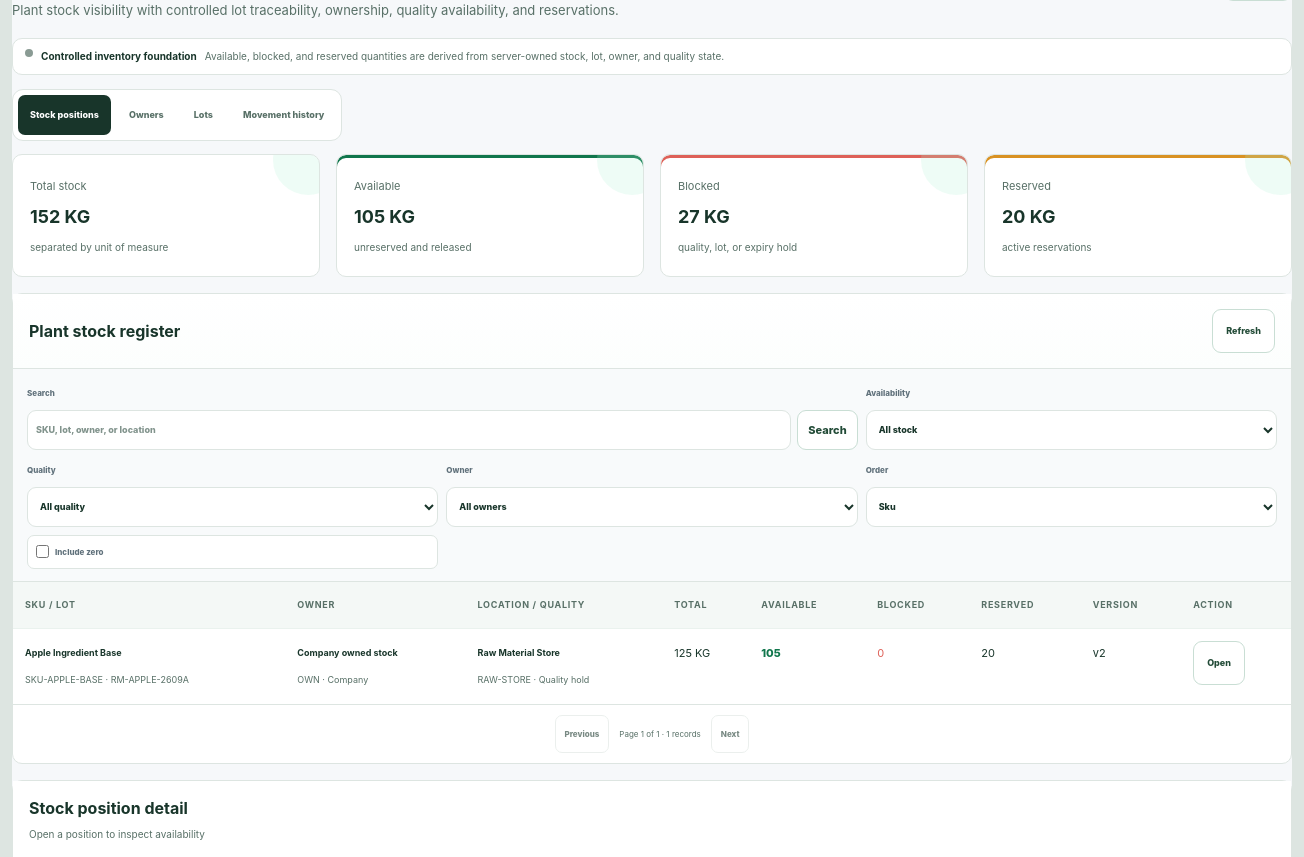
Test: inventory stock workspace › loads derived stock buckets, filters the server list, and opens reservation detail
Expected: the text "Raw Material Store" is shown, [478,647,560,658]
Expected: the text "105 KG" is shown, [354,206,415,227]
Select "BLOCKED" in the dropdown named "Filter stock availability": (1071,430) [866,410,1277,450]
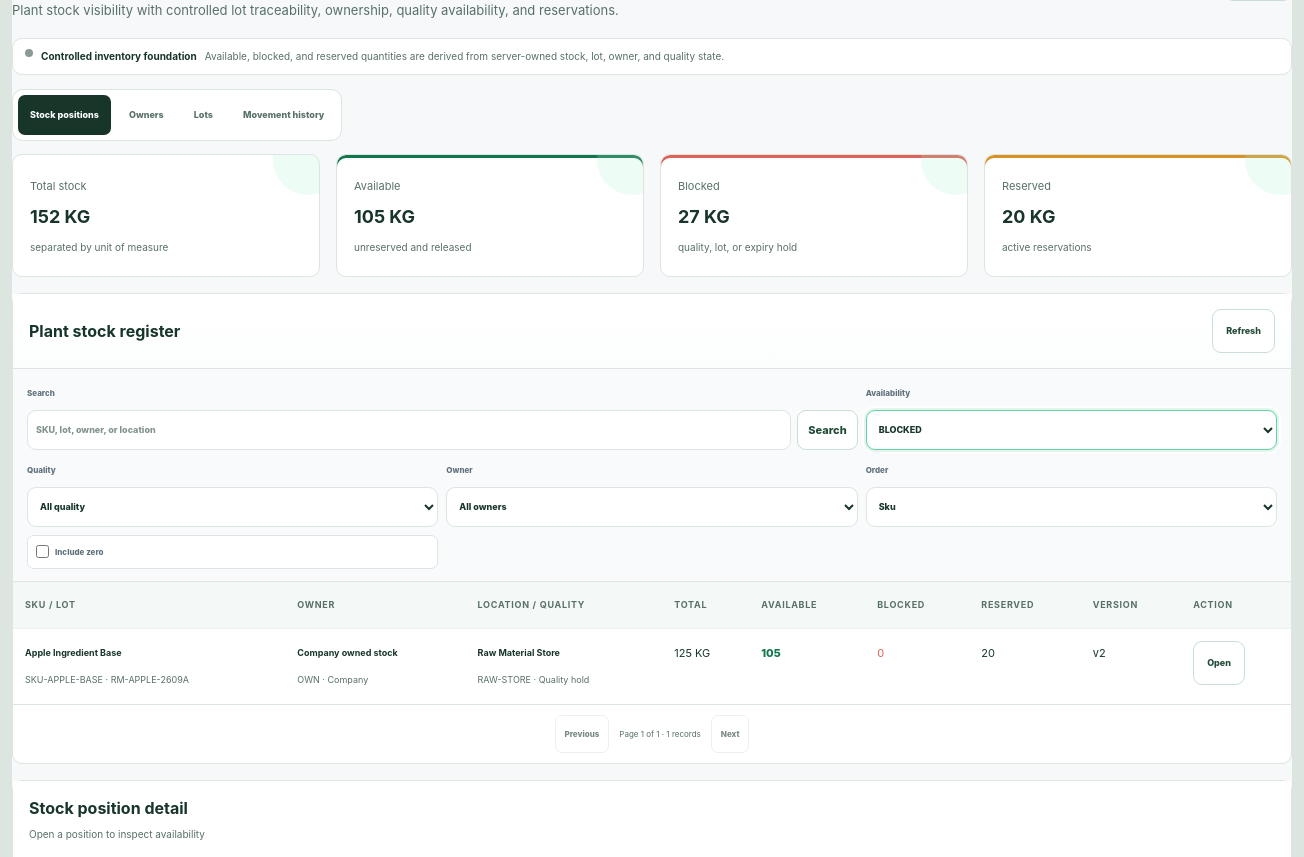
Click the button "Open": (1219,663) [1193,641,1245,685]
(page scrolled)
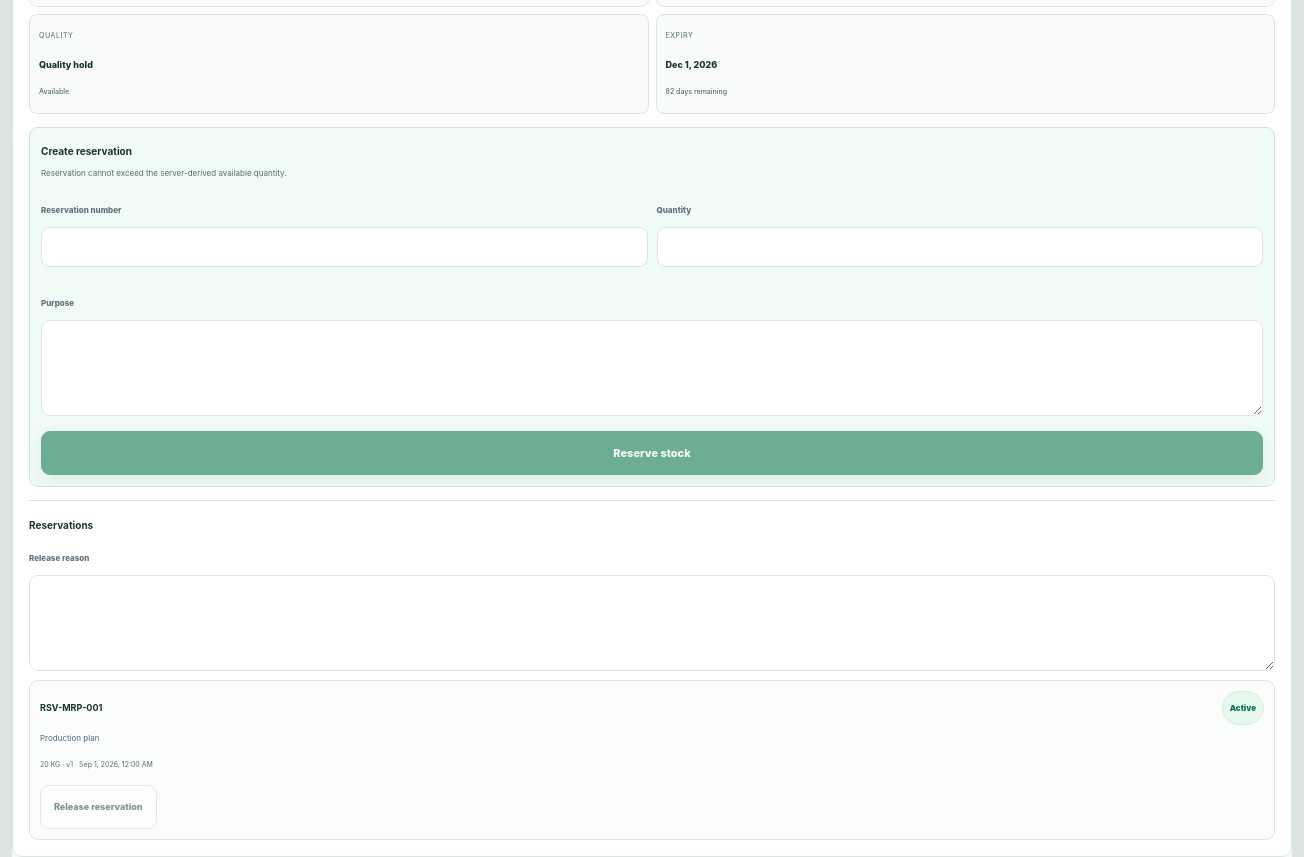
Expected: the text "RSV-MRP-001" is shown, [40,702,102,713]
